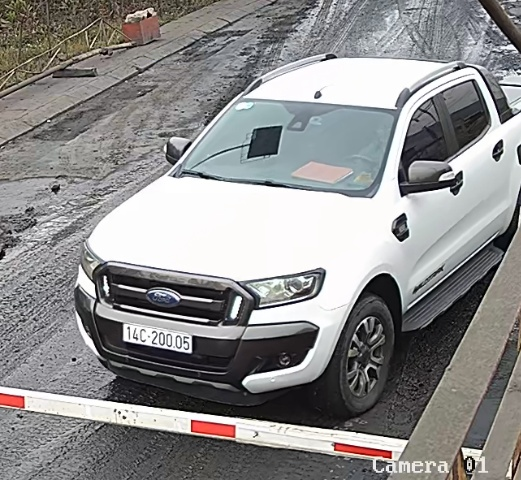vehicle plate: (117, 318, 200, 354)
